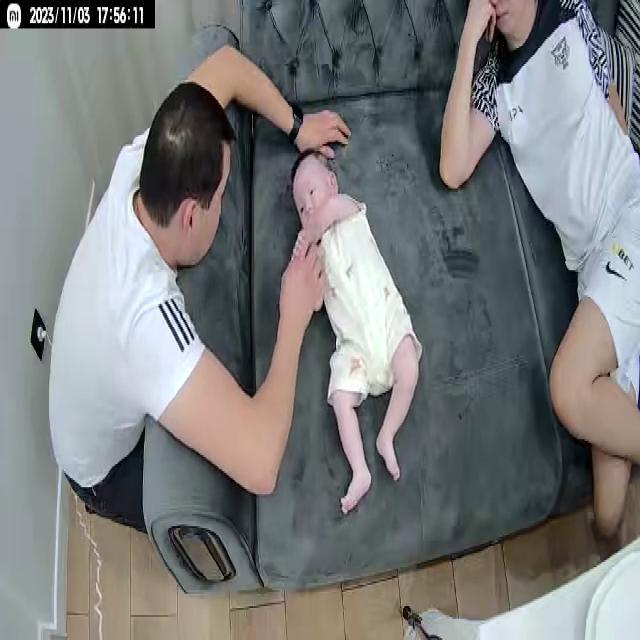baby: (289, 149, 429, 516)
